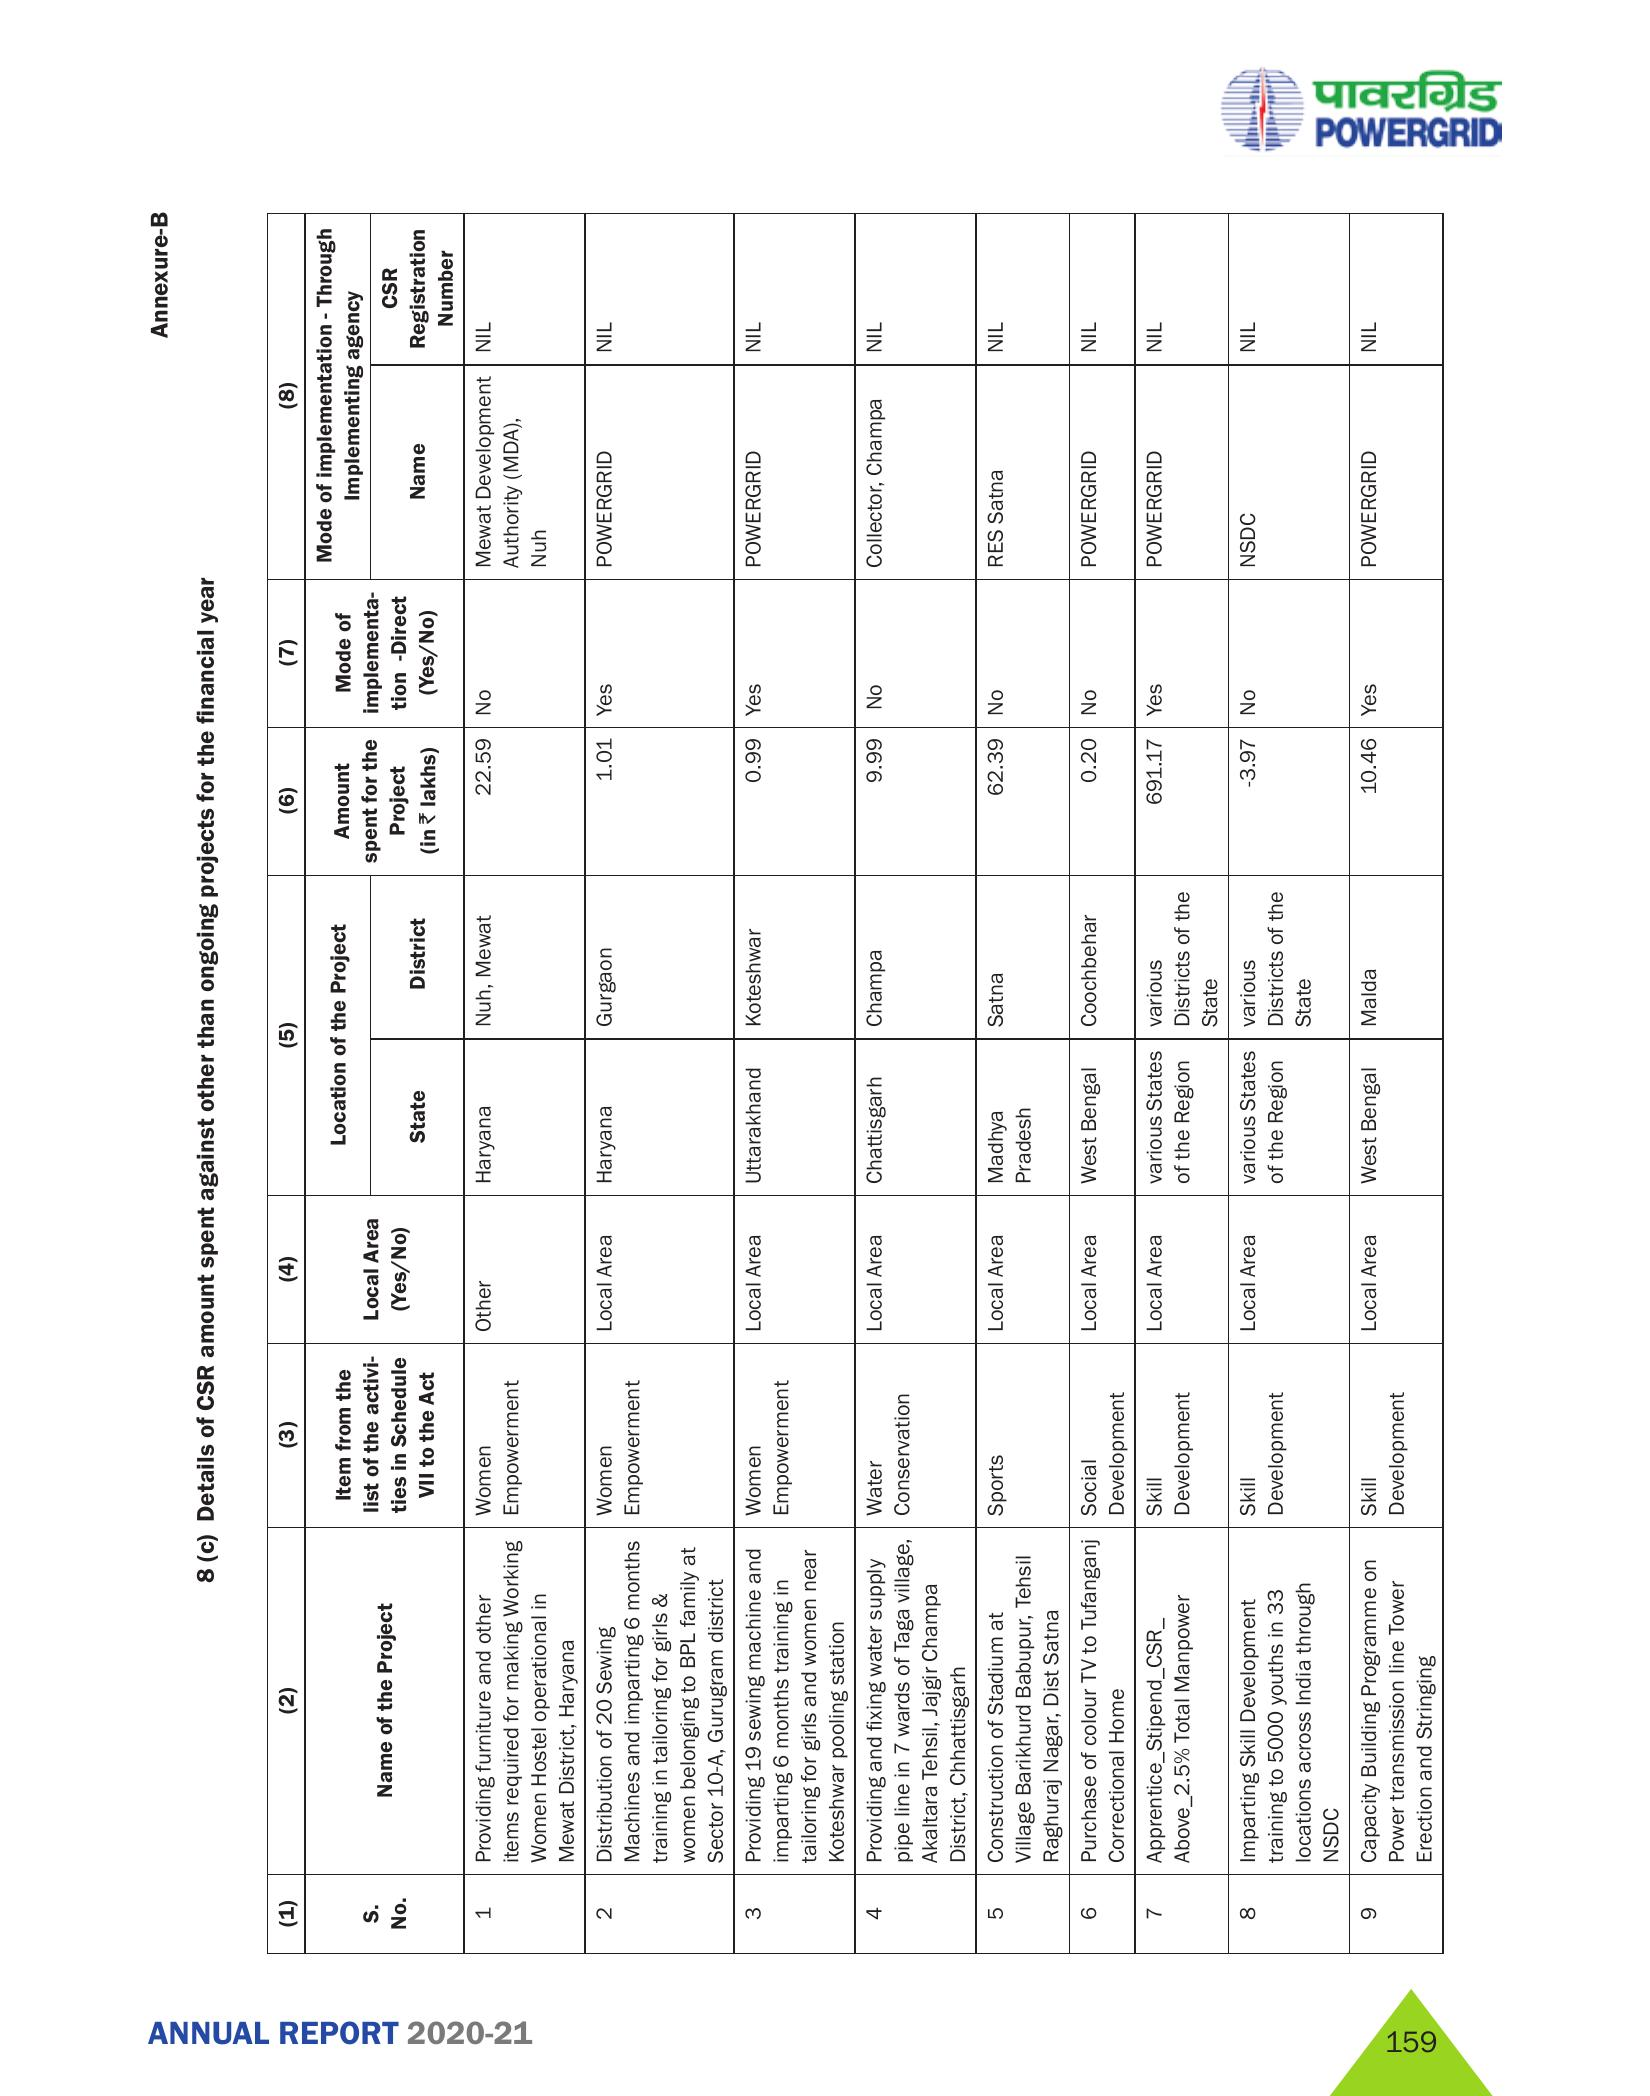Footer: (0, 1968, 1650, 2096)
Header: (0, 0, 1650, 175)
Table: (260, 201, 1533, 1974), (1408, 1968, 1483, 1991)
